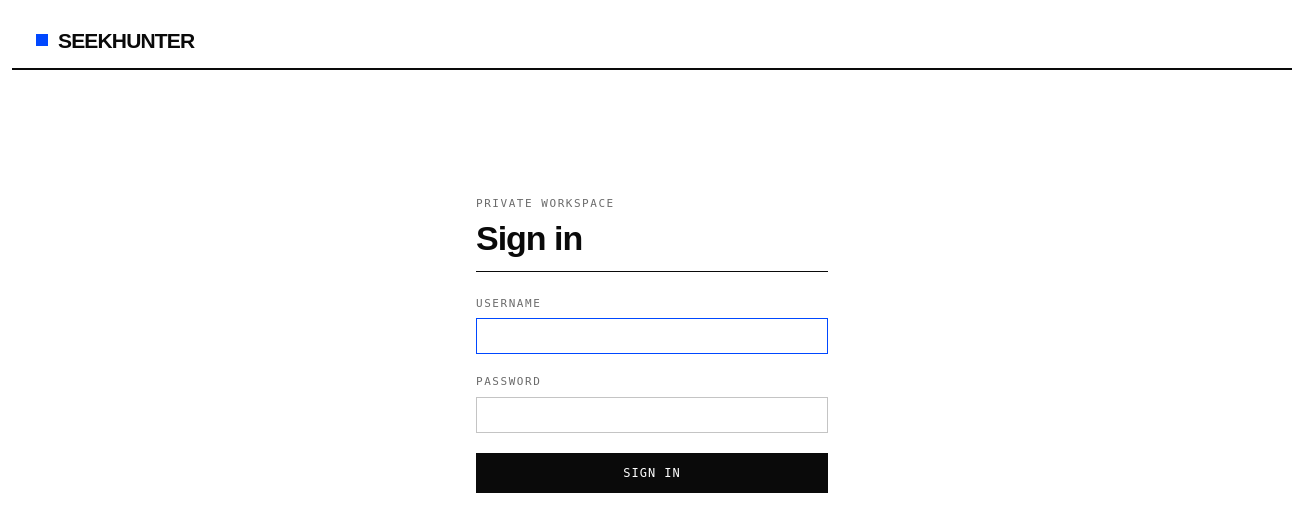
Test: AuthGate › proceeds to the app after a successful login
The width and height of the screenshot is (1292, 510).
Expected: the button "Sign in" is shown, [476,452,828,492]
In the field labelled "Username": (652, 336) [476,318,828,354], type "book"
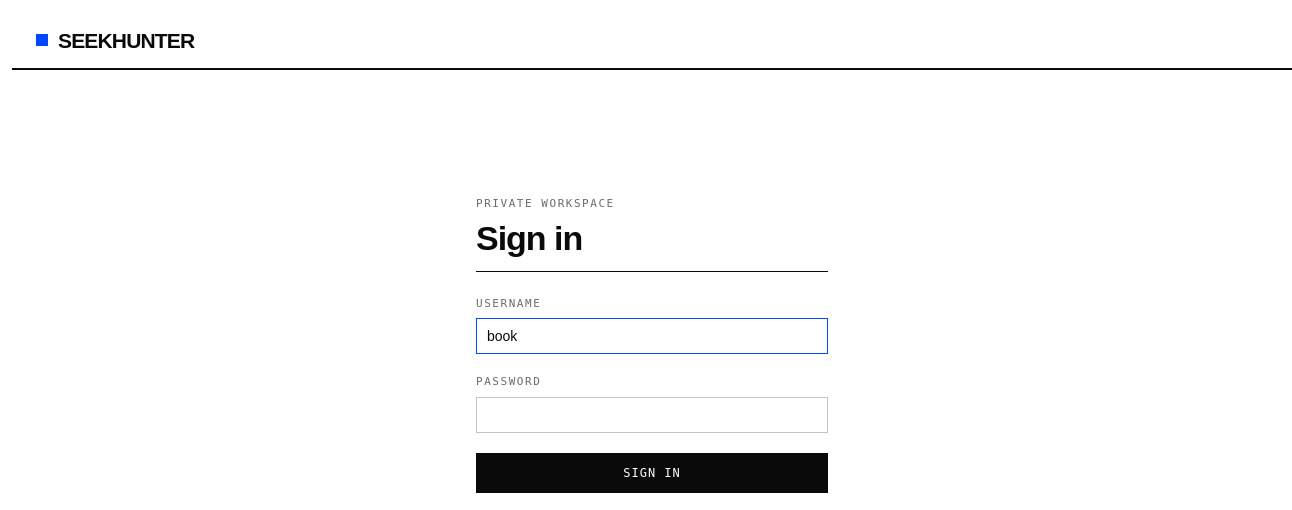
In the password field labelled "Password": (652, 414) [476,396,828,432], type "secret"
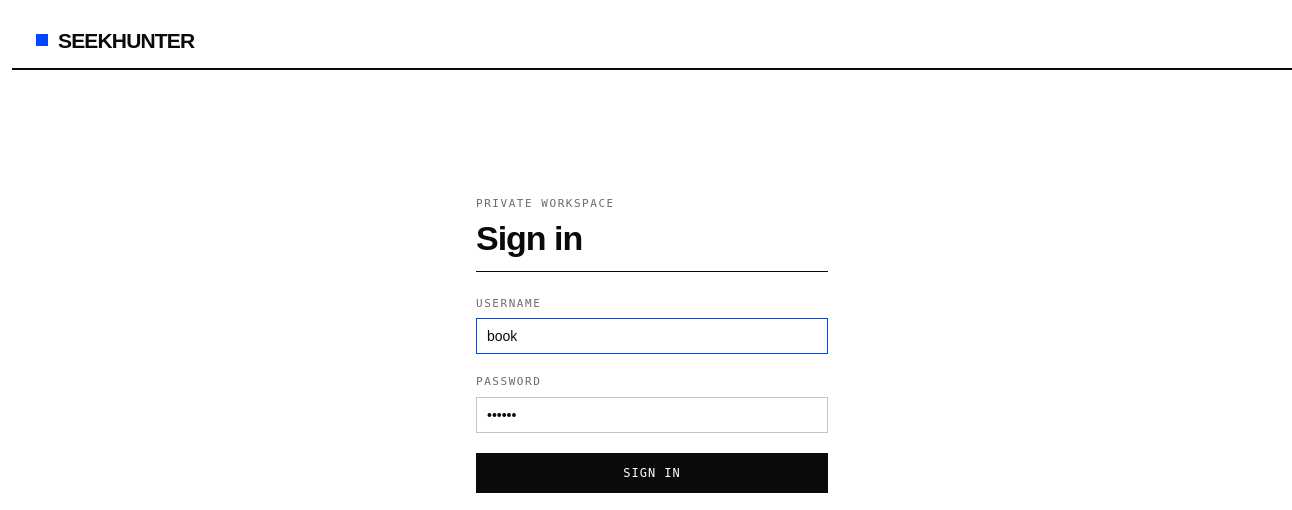
Click the button "Sign in": (652, 472) [476,452,828,492]
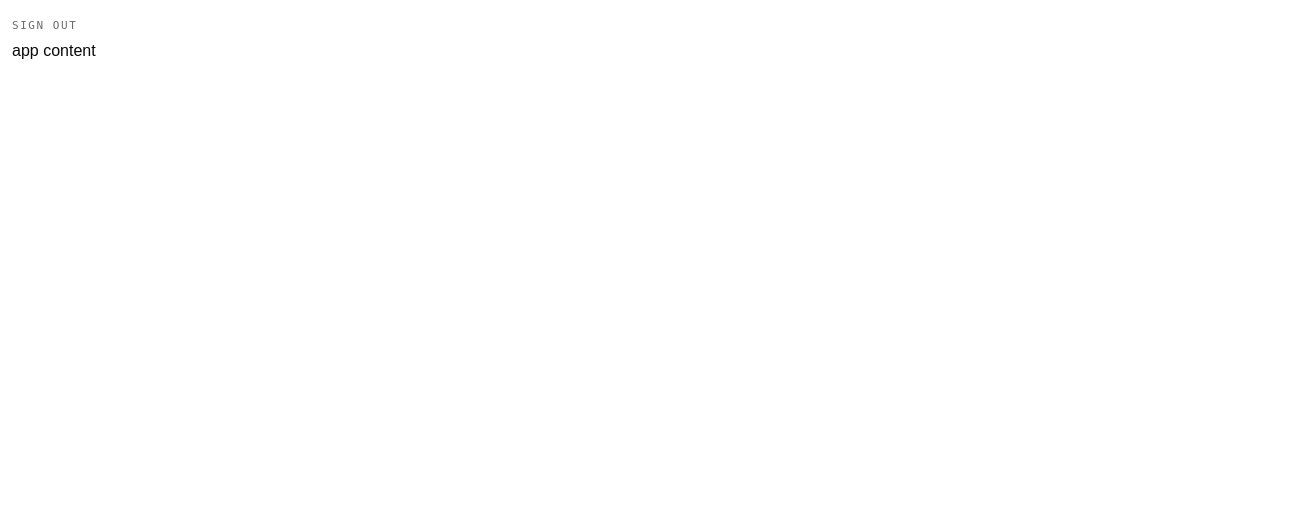
Expected: the text "app content" is shown, [12,42,96,58]
